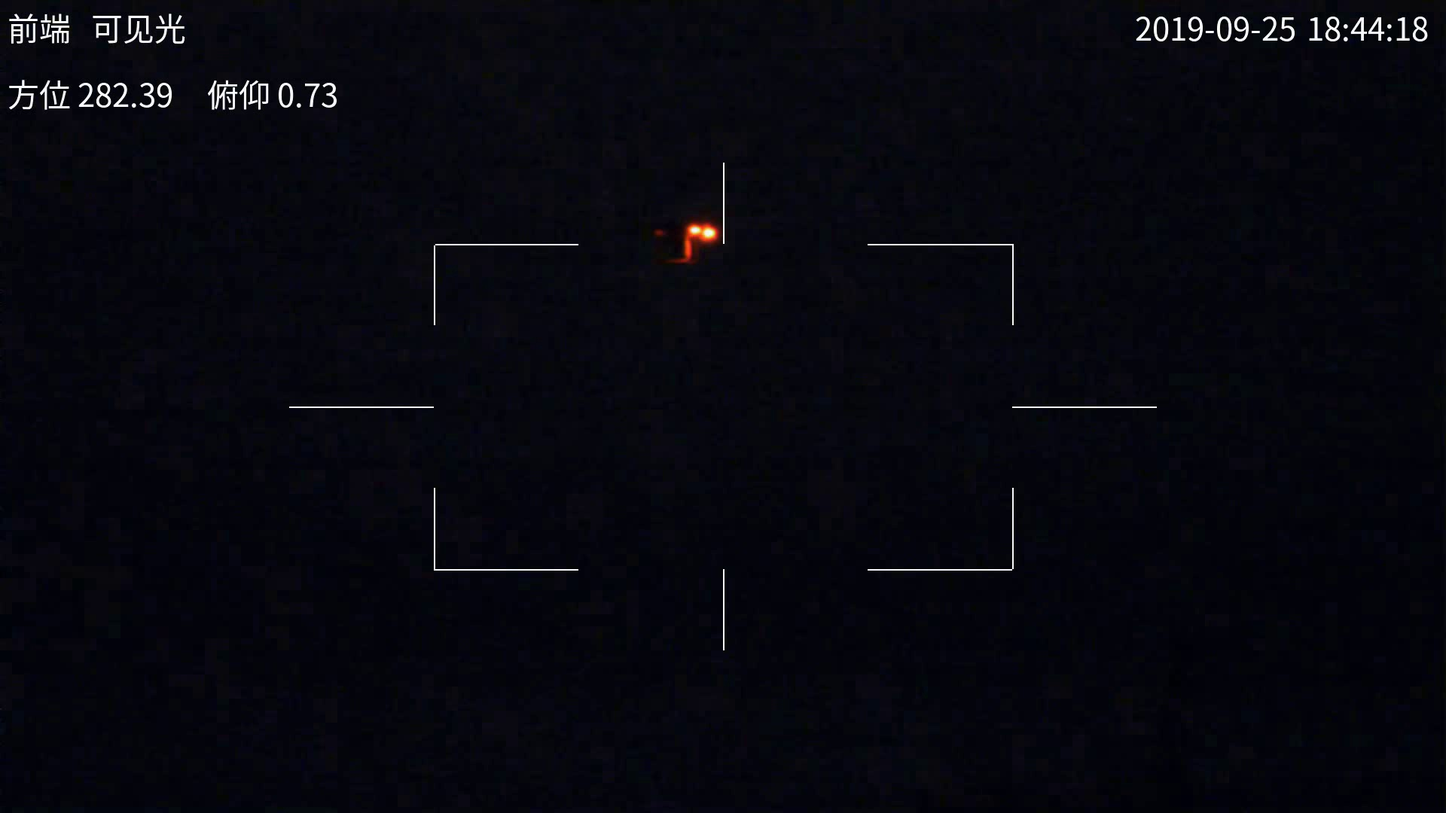drone: (633, 218, 718, 268)
